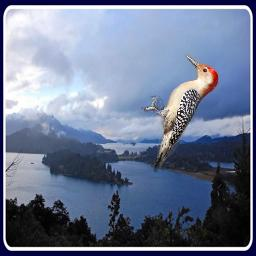Woodpecker: (141, 54, 220, 173)
